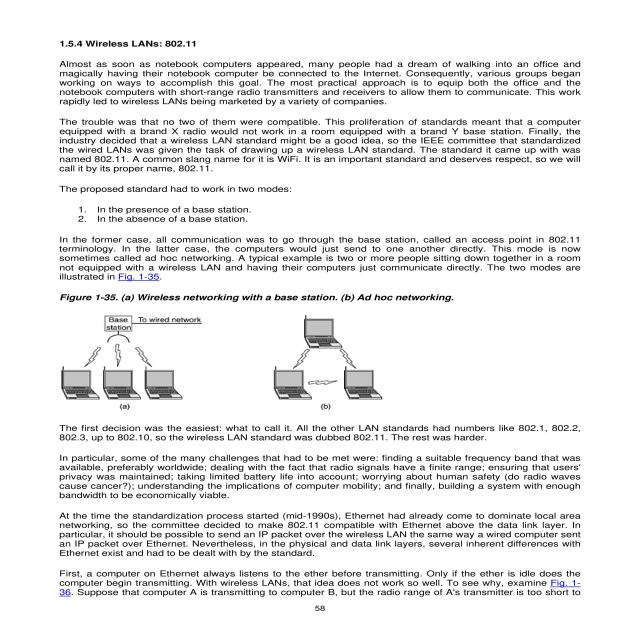diagram: (35, 287, 499, 414), (239, 358, 259, 360)
